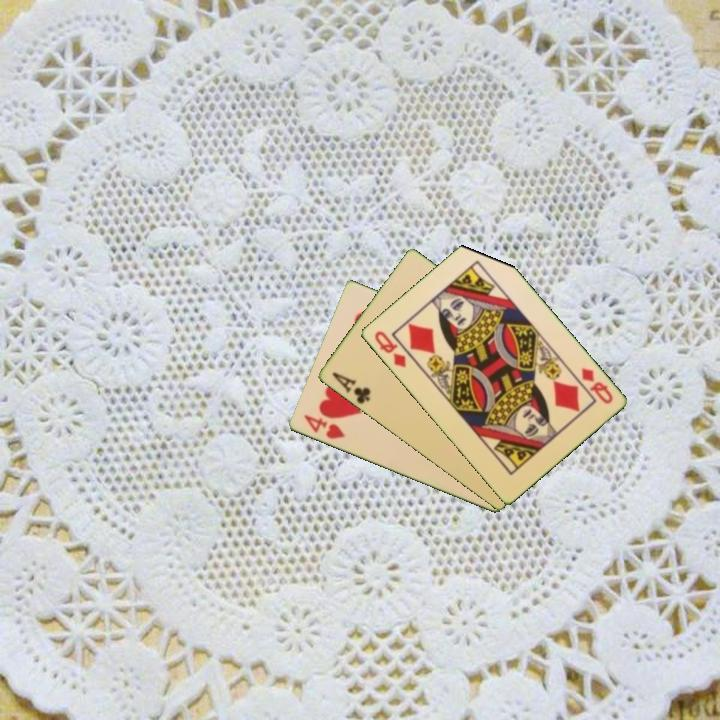4h: (300, 411, 348, 442)
Ac: (328, 368, 374, 407)
Qd: (370, 327, 409, 370), (577, 364, 616, 407)
